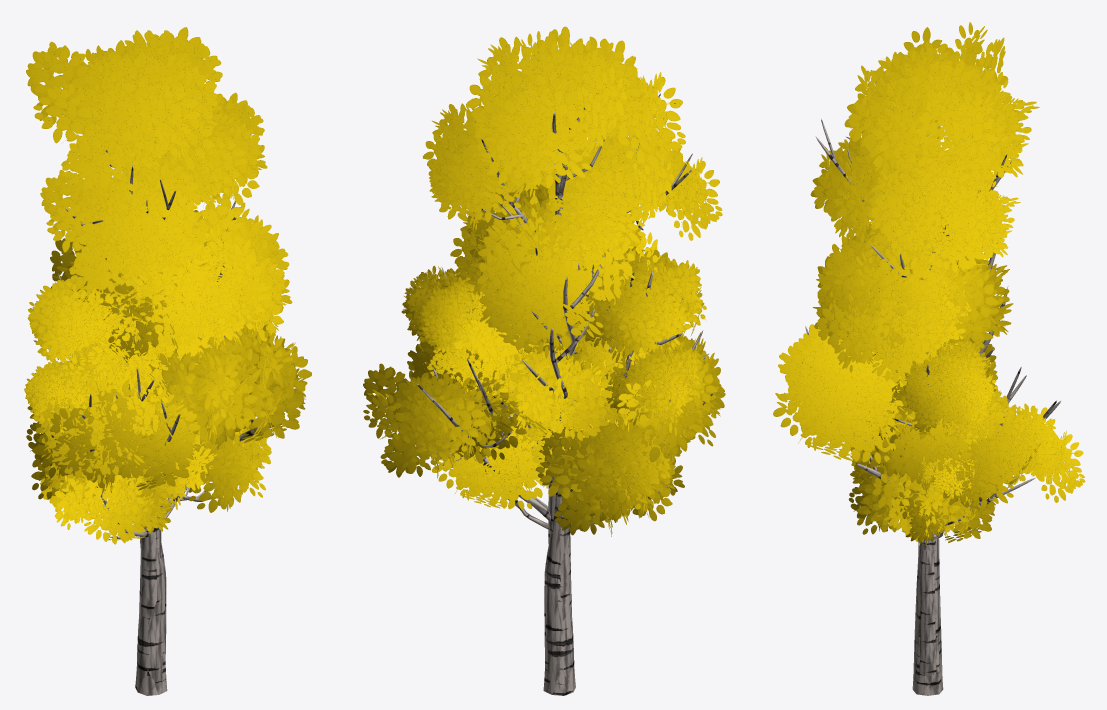
Rendered from birch-trees.glb.
The picture shows the model from 3 angles, left to right: view 1: azimuth 30°, elevation 25°; view 2: azimuth 150°, elevation 25°; view 3: azimuth 270°, elevation 25°; orthographic projection. The views are drawn at different scales.
Parts seen in each view (by area): view 1: BirchTree_2, BirchTree_3, BirchTree_5, BirchTree_4, BirchTree_1; view 2: BirchTree_2, BirchTree_5, BirchTree_3, BirchTree_1, BirchTree_4; view 3: BirchTree_2, BirchTree_5, BirchTree_3, BirchTree_4, BirchTree_1.
Boxes of the visible parts, x1,y1,x2,y2 form: BirchTree_2: (26,27,292,622); BirchTree_3: (24,196,284,654); BirchTree_5: (36,210,311,695); BirchTree_4: (40,420,271,544); BirchTree_1: (31,216,269,694); BirchTree_2: (407,26,725,616); BirchTree_5: (363,202,723,695); BirchTree_3: (401,181,709,660); BirchTree_1: (442,195,670,694); BirchTree_4: (431,341,684,536); BirchTree_2: (805,22,1039,563); BirchTree_5: (773,240,1085,695); BirchTree_3: (813,220,1006,675); BirchTree_4: (848,338,997,545); BirchTree_1: (864,235,990,695).
Bounding box in the file's own units: 3.59 × 7.57 × 3.51.
2 materials, 2 textured.
